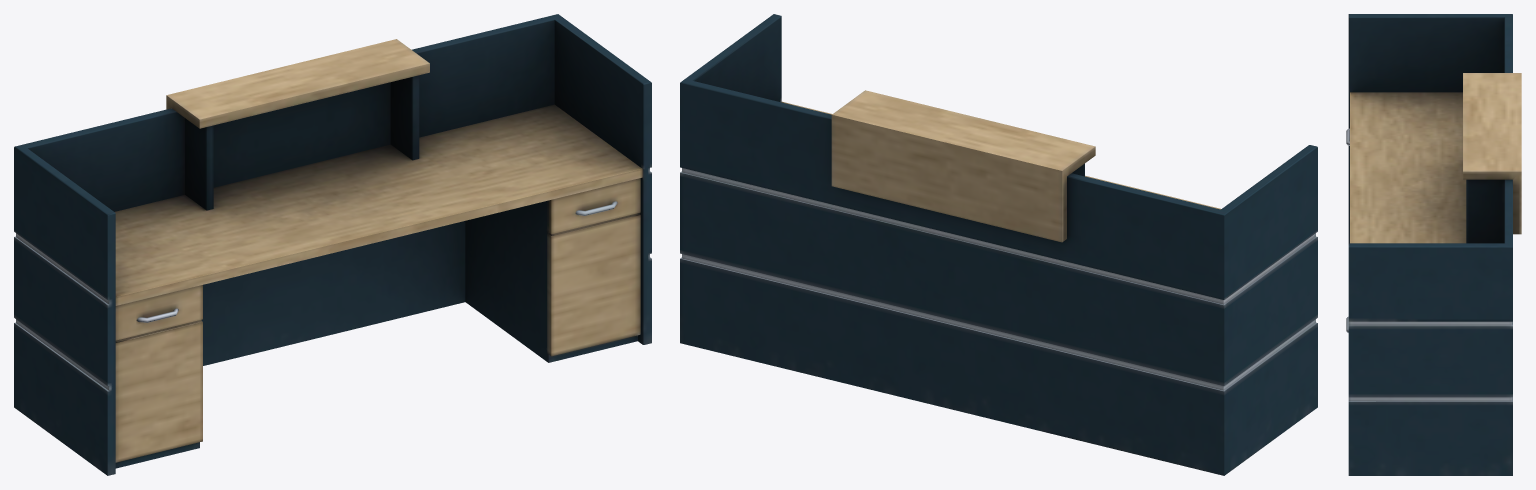
Rendered from hospital_desk.90c96f2b5f.glb.
3 renders of one model, left to right at view 1: azimuth 30°, elevation 25°; view 2: azimuth 150°, elevation 25°; view 3: azimuth 270°, elevation 25°, orthographic. The views are drawn at different scales.
Parts seen in each view (by area): view 1: hospital_desk; view 2: hospital_desk; view 3: hospital_desk.
Boxes of the visible parts, left/top/right/bottom form: hospital_desk: left=14, top=14, right=651, bottom=475; hospital_desk: left=680, top=14, right=1317, bottom=475; hospital_desk: left=1346, top=14, right=1521, bottom=475.
Bounding box in the file's own units: 2.99 × 1.42 × 0.9502.
Materials: 1 (1 with a texture image).
